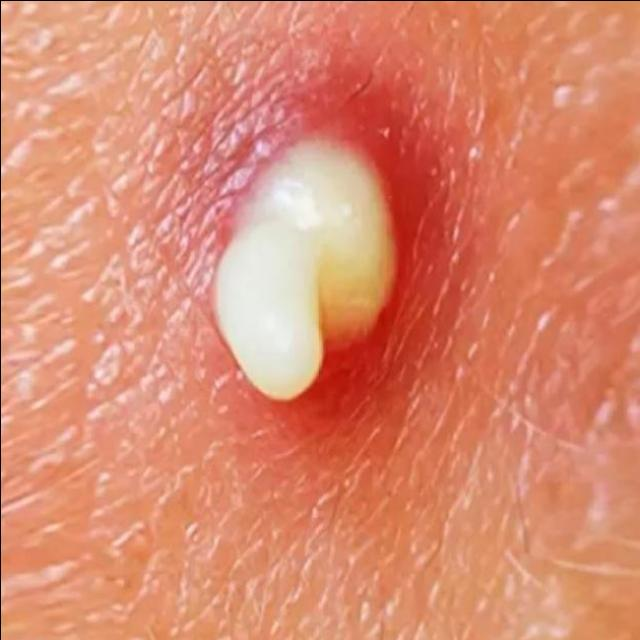pustule: (183, 71, 461, 424)
